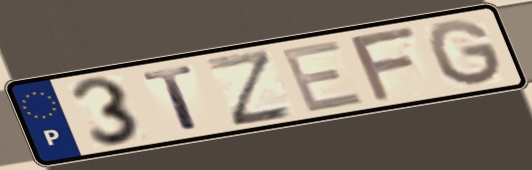3: (70, 74, 145, 147)
E: (277, 37, 369, 115)
F: (346, 23, 421, 105)
G: (425, 17, 508, 88)
T: (139, 63, 205, 133)
Z: (202, 46, 298, 129)
